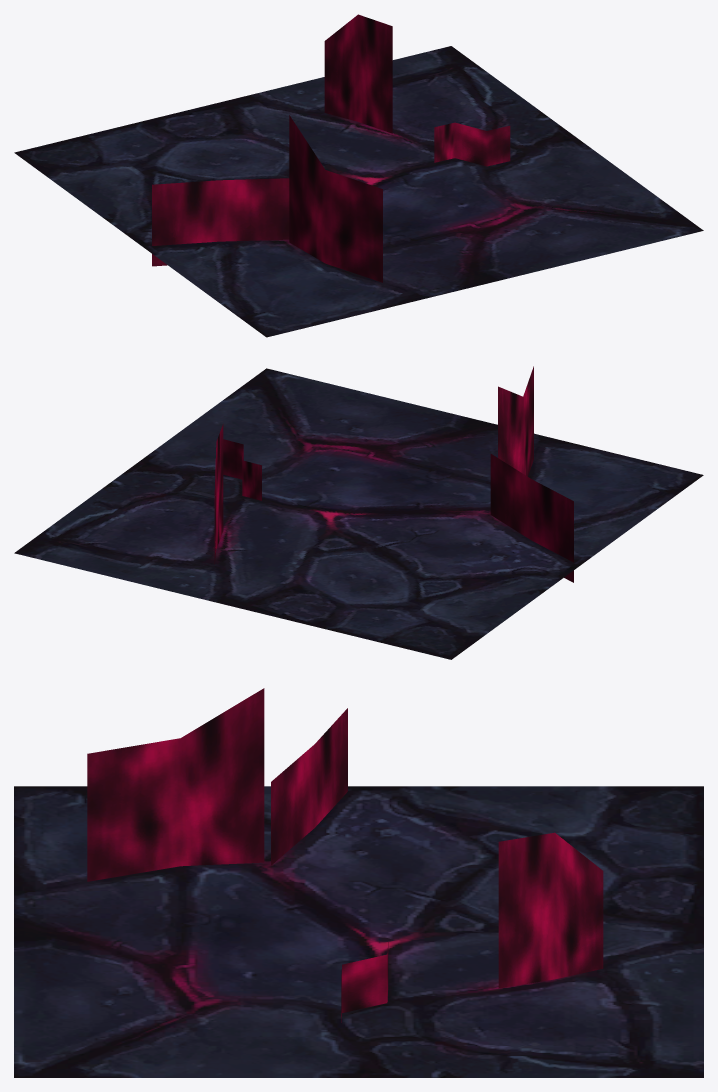
Rendered from palace_floor_blank_02.fbx.
3 views of the same model, one above another, from view 1: azimuth 30°, elevation 25°; view 2: azimuth 150°, elevation 25°; view 3: azimuth 270°, elevation 25° (orthographic). The views are drawn at different scales.
Parts seen in each view (by area): view 1: palace_floor_blank_02-0; view 2: palace_floor_blank_02-0; view 3: palace_floor_blank_02-0.
Part boxes in pixels (x1,y1,x2,y2): palace_floor_blank_02-0: (14, 14, 703, 337); palace_floor_blank_02-0: (14, 366, 703, 659); palace_floor_blank_02-0: (14, 688, 703, 1077).
Bounding box in the file's own units: 4 × 1.33 × 4.
